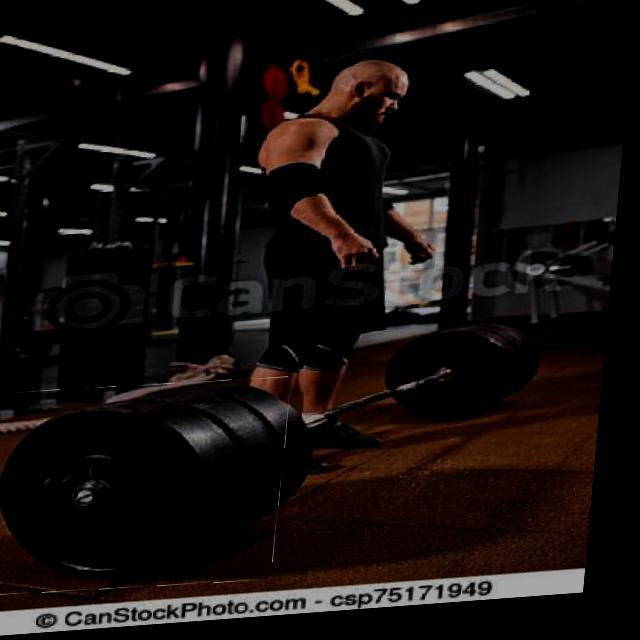barbell: (1, 380, 300, 601)
